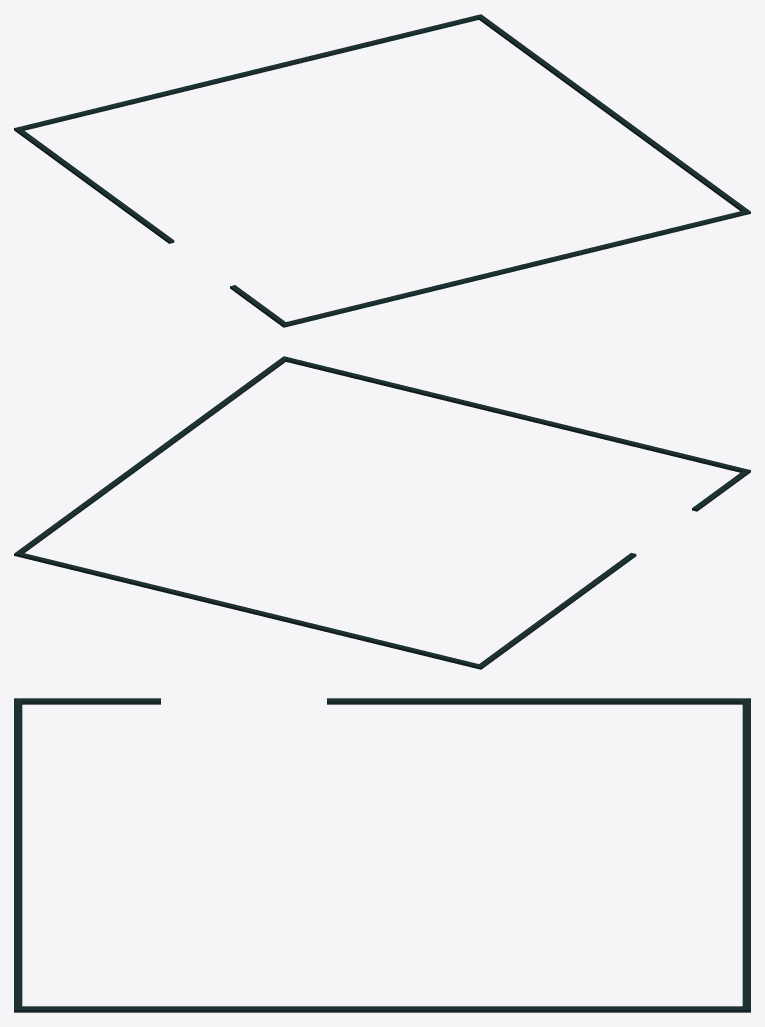
Rendered from oc_parking_01_collision.glb.
3 renders of one model, top to bottom at view 1: azimuth 30°, elevation 25°; view 2: azimuth 150°, elevation 25°; view 3: azimuth 270°, elevation 25°, orthographic. The views are drawn at different scales.
Parts seen in each view (by area): view 1: COL_KerbF, COL_KerbB, COL_KerbE, COL_KerbW2; view 2: COL_KerbB, COL_KerbF, COL_KerbE, COL_KerbW2; view 3: COL_KerbE, COL_KerbW2, COL_KerbB, COL_KerbF, COL_KerbW1.
Part boxes in pixels (box(x1,y1,x2,y2)): COL_KerbF: box(286, 210, 745, 326); COL_KerbB: box(19, 15, 478, 130); COL_KerbE: box(476, 14, 750, 214); COL_KerbW2: box(14, 127, 174, 243); COL_KerbB: box(19, 552, 478, 668); COL_KerbF: box(286, 357, 745, 472); COL_KerbE: box(14, 356, 288, 556); COL_KerbW2: box(476, 553, 636, 669); COL_KerbE: box(14, 1006, 750, 1012); COL_KerbW2: box(327, 698, 750, 704); COL_KerbB: box(742, 701, 750, 1006); COL_KerbF: box(14, 701, 22, 1006); COL_KerbW1: box(14, 698, 160, 704).
Size of the model in its own units: 26.6 by 0.12 by 26.6.
